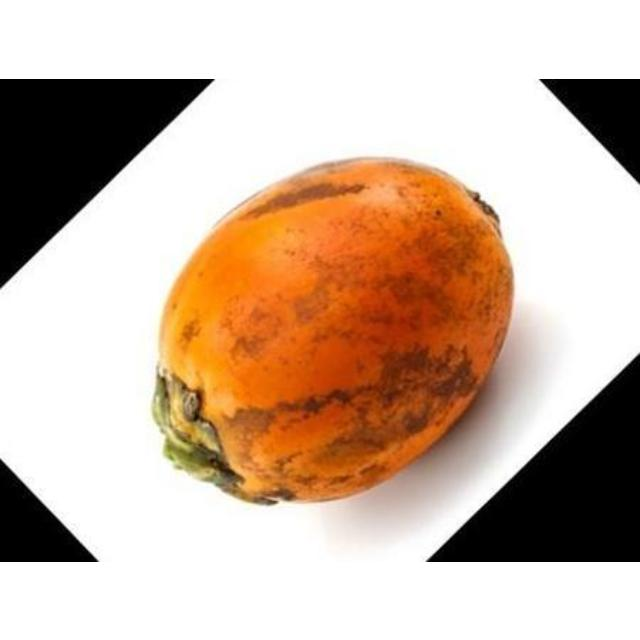good: (149, 156, 516, 506)
